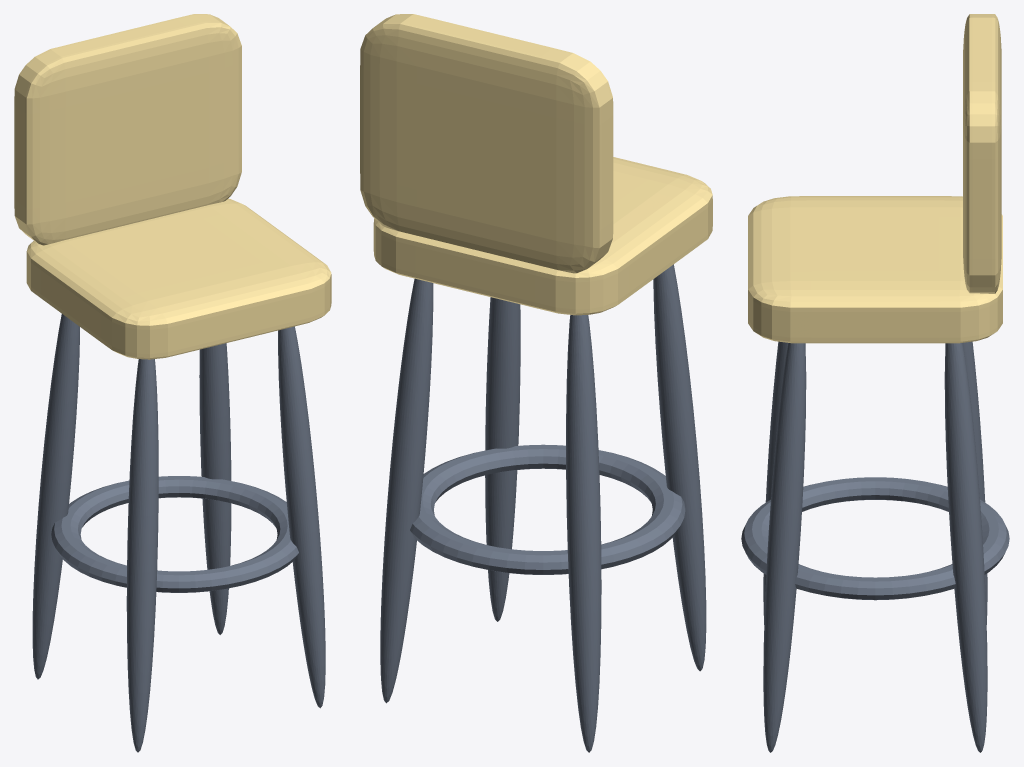
The model's file is stool.glb.
3 renders of one model, left to right at view 1: azimuth 30°, elevation 25°; view 2: azimuth 150°, elevation 25°; view 3: azimuth 270°, elevation 25°, orthographic. The views are drawn at different scales.
Visible parts, largest first — view 1: back, seat, footrest, leg-0.14-0.13, leg0.14-0.13, leg-0.140.13, leg0.140.13; view 2: back, seat, footrest, leg-0.140.13, leg0.140.13, leg-0.14-0.13, leg0.14-0.13; view 3: seat, leg0.14-0.13, leg0.140.13, back, footrest, leg-0.14-0.13, leg-0.140.13.
Boxes of the visible parts, left/top/right/bottom form: back: left=14, top=14, right=241, bottom=245; seat: left=26, top=198, right=331, bottom=359; footrest: left=51, top=476, right=298, bottom=592; leg-0.14-0.13: left=126, top=359, right=158, bottom=752; leg0.14-0.13: left=278, top=326, right=325, bottom=708; leg-0.140.13: left=32, top=314, right=79, bottom=679; leg0.140.13: left=199, top=343, right=231, bottom=634; back: left=360, top=14, right=613, bottom=273; seat: left=373, top=157, right=712, bottom=315; footrest: left=410, top=444, right=685, bottom=574; leg-0.140.13: left=566, top=315, right=601, bottom=752; leg0.140.13: left=380, top=278, right=433, bottom=703; leg-0.14-0.13: left=653, top=264, right=706, bottom=671; leg0.14-0.13: left=485, top=297, right=520, bottom=621; seat: left=748, top=196, right=1002, bottom=343; leg0.14-0.13: left=763, top=343, right=806, bottom=752; leg0.140.13: left=944, top=343, right=987, bottom=752; back: left=963, top=14, right=1001, bottom=293; footrest: left=741, top=477, right=1009, bottom=600; leg-0.14-0.13: left=763, top=341, right=805, bottom=624; leg-0.140.13: left=945, top=341, right=987, bottom=624.
Bounding box in the file's own units: 0.452 × 1.21 × 0.452.
